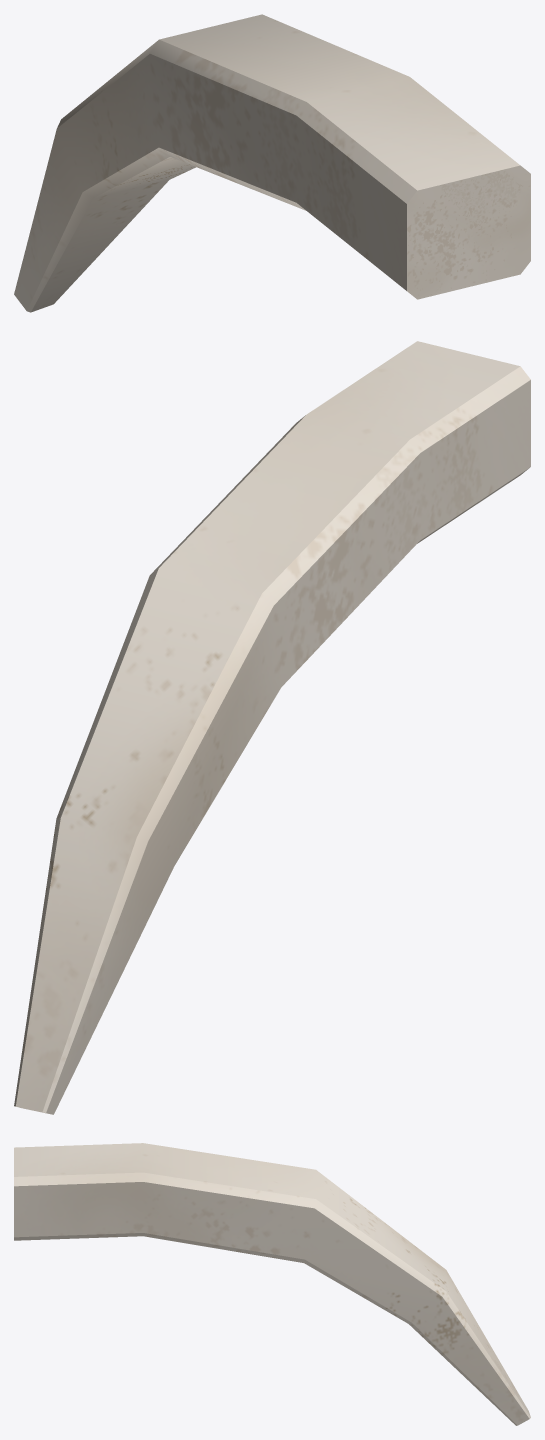
The model's file is SM_rib.fbx.
The picture shows the model from 3 angles, top to bottom: view 1: azimuth 30°, elevation 25°; view 2: azimuth 150°, elevation 25°; view 3: azimuth 270°, elevation 25°; orthographic projection. The views are drawn at different scales.
Parts seen in each view (by area): view 1: rib; view 2: rib; view 3: rib.
Boxes of the visible parts, bbox=[...] form: rib: bbox=[14, 14, 530, 312]; rib: bbox=[14, 341, 530, 1114]; rib: bbox=[14, 1143, 530, 1425].
Size of the model in its own units: 3.86 by 13.44 by 23.81.
